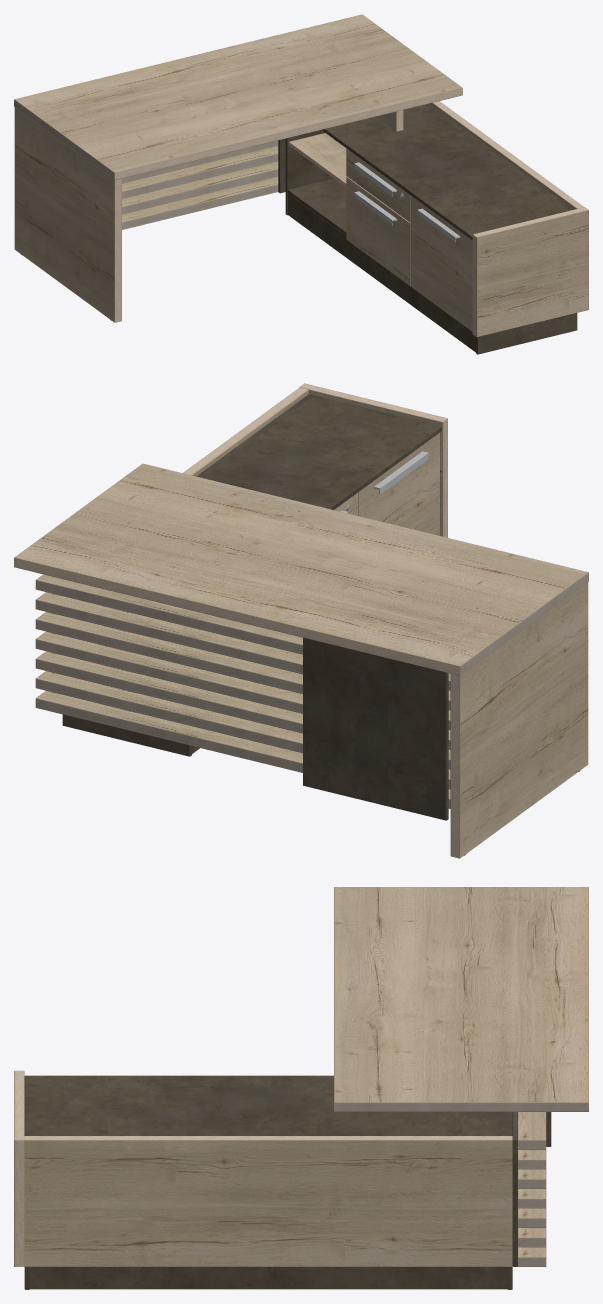
3 renders of one model, top to bottom at view 1: azimuth 30°, elevation 25°; view 2: azimuth 150°, elevation 25°; view 3: azimuth 270°, elevation 25°, orthographic. The views are drawn at different scales.
Visible parts, largest first — view 1: Box1578995149, Line1789532200, Line1789532211, Line1789532197, Line1789532193, Line1789532195, Line1789532187, Line1789532206, Line1789532205, Line1789532207, Line1789532186, Line1789532184 (+5 smaller); view 2: Box1578995149, Line1789532200, Line1789532201, Line1789532211, Line1789532205, Line1789532206, Line1789532207, Line1789532208, Line1789532204, Line1789532203, Line1789532209, Line1789532193 (+4 smaller); view 3: Line1789532198, Box1578995149, Line1789532211, Line1789532188, Line1789532197, Line1789532209, Line1789532199, Line1789532203, Line1789532205, Line1789532207, Line1789532204, Line1789532206 (+1 smaller).
Boxes of the visible parts, <box> form: Box1578995149: <box>14,14,462,180</box>; Line1789532200: <box>14,107,121,322</box>; Line1789532211: <box>322,103,573,240</box>; Line1789532197: <box>472,207,588,337</box>; Line1789532193: <box>410,195,472,331</box>; Line1789532195: <box>346,176,410,285</box>; Line1789532187: <box>288,193,475,352</box>; Line1789532206: <box>122,161,278,214</box>; Line1789532205: <box>122,146,278,199</box>; Line1789532207: <box>122,176,278,229</box>; Line1789532186: <box>288,178,346,235</box>; Line1789532184: <box>476,313,577,354</box>; Box1578995149: <box>14,463,588,675</box>; Line1789532200: <box>450,582,588,858</box>; Line1789532201: <box>303,638,448,820</box>; Line1789532211: <box>196,394,441,509</box>; Line1789532205: <box>35,651,450,769</box>; Line1789532206: <box>35,671,450,789</box>; Line1789532207: <box>35,690,450,808</box>; Line1789532208: <box>35,592,450,710</box>; Line1789532204: <box>35,631,450,749</box>; Line1789532203: <box>35,612,450,729</box>; Line1789532209: <box>35,574,450,690</box>; Line1789532193: <box>358,432,439,535</box>; Line1789532198: <box>24,1136,512,1266</box>; Box1578995149: <box>334,887,588,1111</box>; Line1789532211: <box>24,1075,512,1135</box>; Line1789532188: <box>30,1267,507,1289</box>; Line1789532197: <box>14,1070,24,1266</box>; Line1789532209: <box>518,1112,546,1149</box>; Line1789532199: <box>512,1112,517,1266</box>; Line1789532203: <box>518,1169,546,1188</box>; Line1789532205: <box>518,1208,546,1227</box>; Line1789532207: <box>518,1247,546,1266</box>; Line1789532204: <box>518,1189,546,1208</box>; Line1789532206: <box>518,1228,546,1247</box>.
Size of the model in its own units: 1.8 by 0.75 by 2.03.
8 materials, 6 textured.
